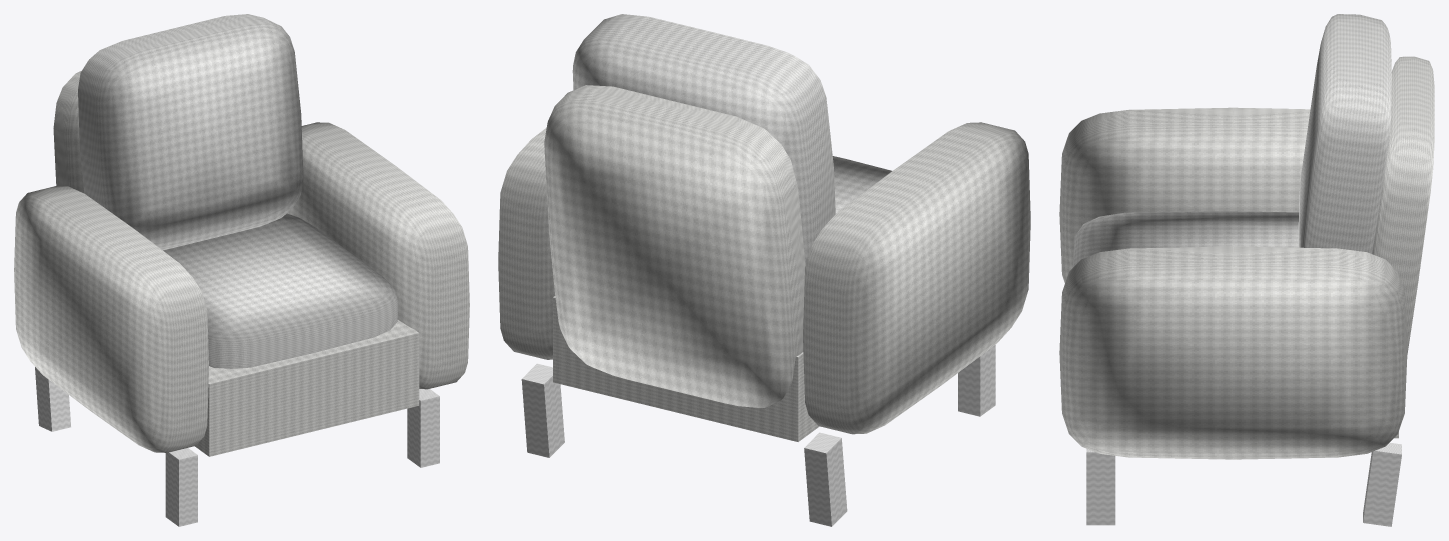
3 views of the same model, side by side, from view 1: azimuth 30°, elevation 25°; view 2: azimuth 150°, elevation 25°; view 3: azimuth 270°, elevation 25° (orthographic). The views are drawn at different scales.
Parts seen in each view (by area): view 1: 10 backrest, 7 left_armrest, 8 right_armrest, 6 seat_cushion, 5 seat_base, 9 backrest_frame, 1 front_left_leg, 2 front_right_leg, 3 back_left_leg; view 2: 9 backrest_frame, 7 left_armrest, 10 backrest, 8 right_armrest, 5 seat_base, 3 back_left_leg, 4 back_right_leg, 1 front_left_leg, 6 seat_cushion; view 3: 8 right_armrest, 7 left_armrest, 10 backrest, 9 backrest_frame, 6 seat_cushion, 4 back_right_leg, 2 front_right_leg.
Part boxes in pixels (box(x1,y1,x2,y2)): 10 backrest: box(78, 14, 303, 250); 7 left_armrest: box(14, 186, 208, 452); 8 right_armrest: box(287, 122, 469, 389); 6 seat_cushion: box(163, 213, 398, 368); 5 seat_base: box(195, 320, 419, 456); 9 backrest_frame: box(53, 70, 83, 193); 1 front_left_leg: box(165, 448, 197, 526); 2 front_right_leg: box(407, 389, 439, 467); 3 back_left_leg: box(35, 367, 70, 431); 9 backrest_frame: box(544, 85, 805, 407); 7 left_armrest: box(803, 122, 1030, 434); 10 backrest: box(572, 14, 835, 264); 8 right_armrest: box(498, 128, 555, 359); 5 seat_base: box(553, 296, 819, 441); 3 back_left_leg: box(804, 432, 847, 526); 4 back_right_leg: box(521, 363, 564, 457); 1 front_left_leg: box(958, 345, 995, 416); 6 seat_cushion: box(832, 156, 891, 213); 8 right_armrest: box(1059, 246, 1407, 459); 7 left_armrest: box(1059, 107, 1310, 282); 10 backrest: box(1298, 14, 1391, 254); 9 backrest_frame: box(1373, 56, 1434, 354); 6 seat_cushion: box(1072, 211, 1298, 267); 4 back_right_leg: box(1363, 442, 1401, 526); 2 front_right_leg: box(1086, 448, 1115, 525).
Size of the model in its own units: 0.8889 by 1 by 0.8333.
Materials: 3 (3 with a texture image).
